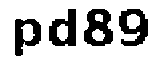8: (83, 10, 116, 48)
9: (118, 8, 151, 51)
d: (46, 6, 78, 49)
p: (10, 15, 42, 60)
